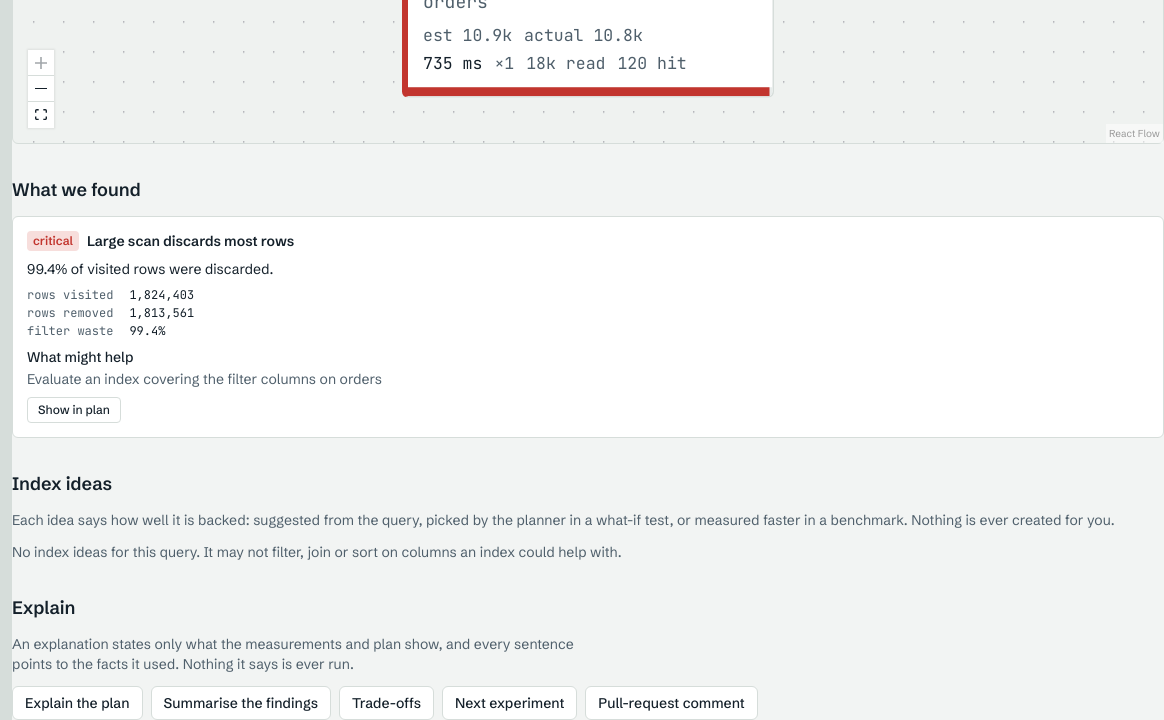
Test: AnalysisResult › opens the details for the related node from a finding's Show in plan button
This screenshot has width=1164, height=720.
(page scrolled)
Click the button "Show in plan".
click(74, 410)  # box [27,397,121,423]
(page scrolled)
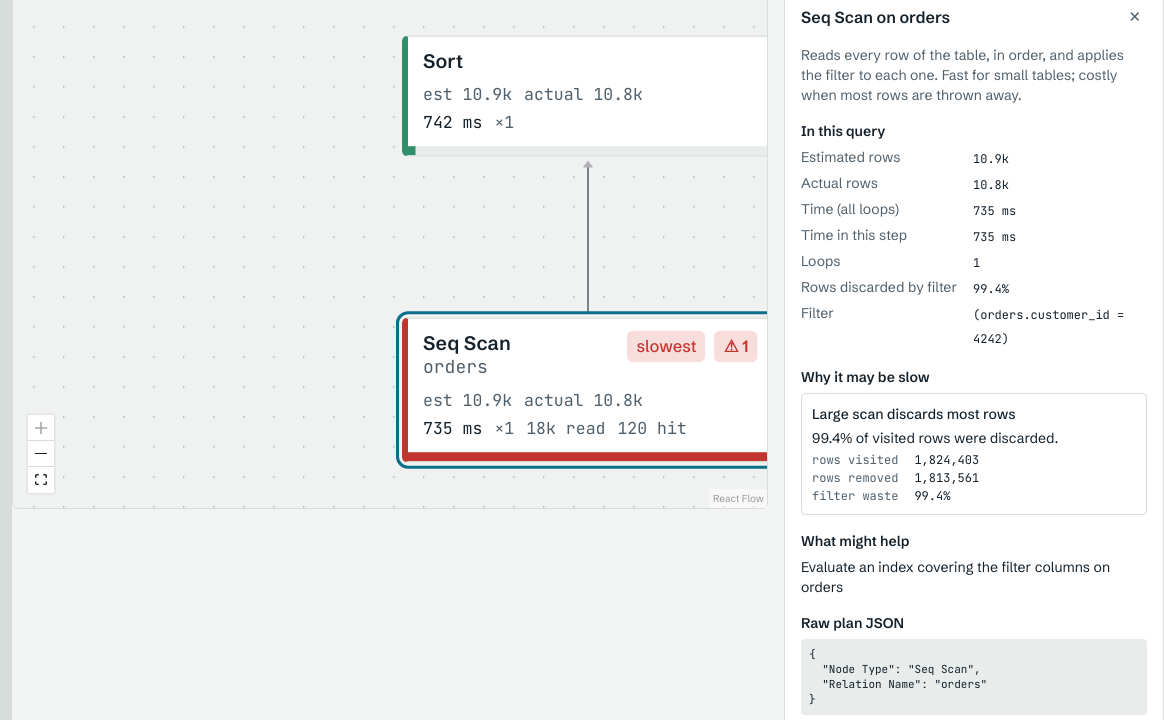
Expected: the element named "operator details" shows "Seq Scan on orders", [801,7,950,27]
